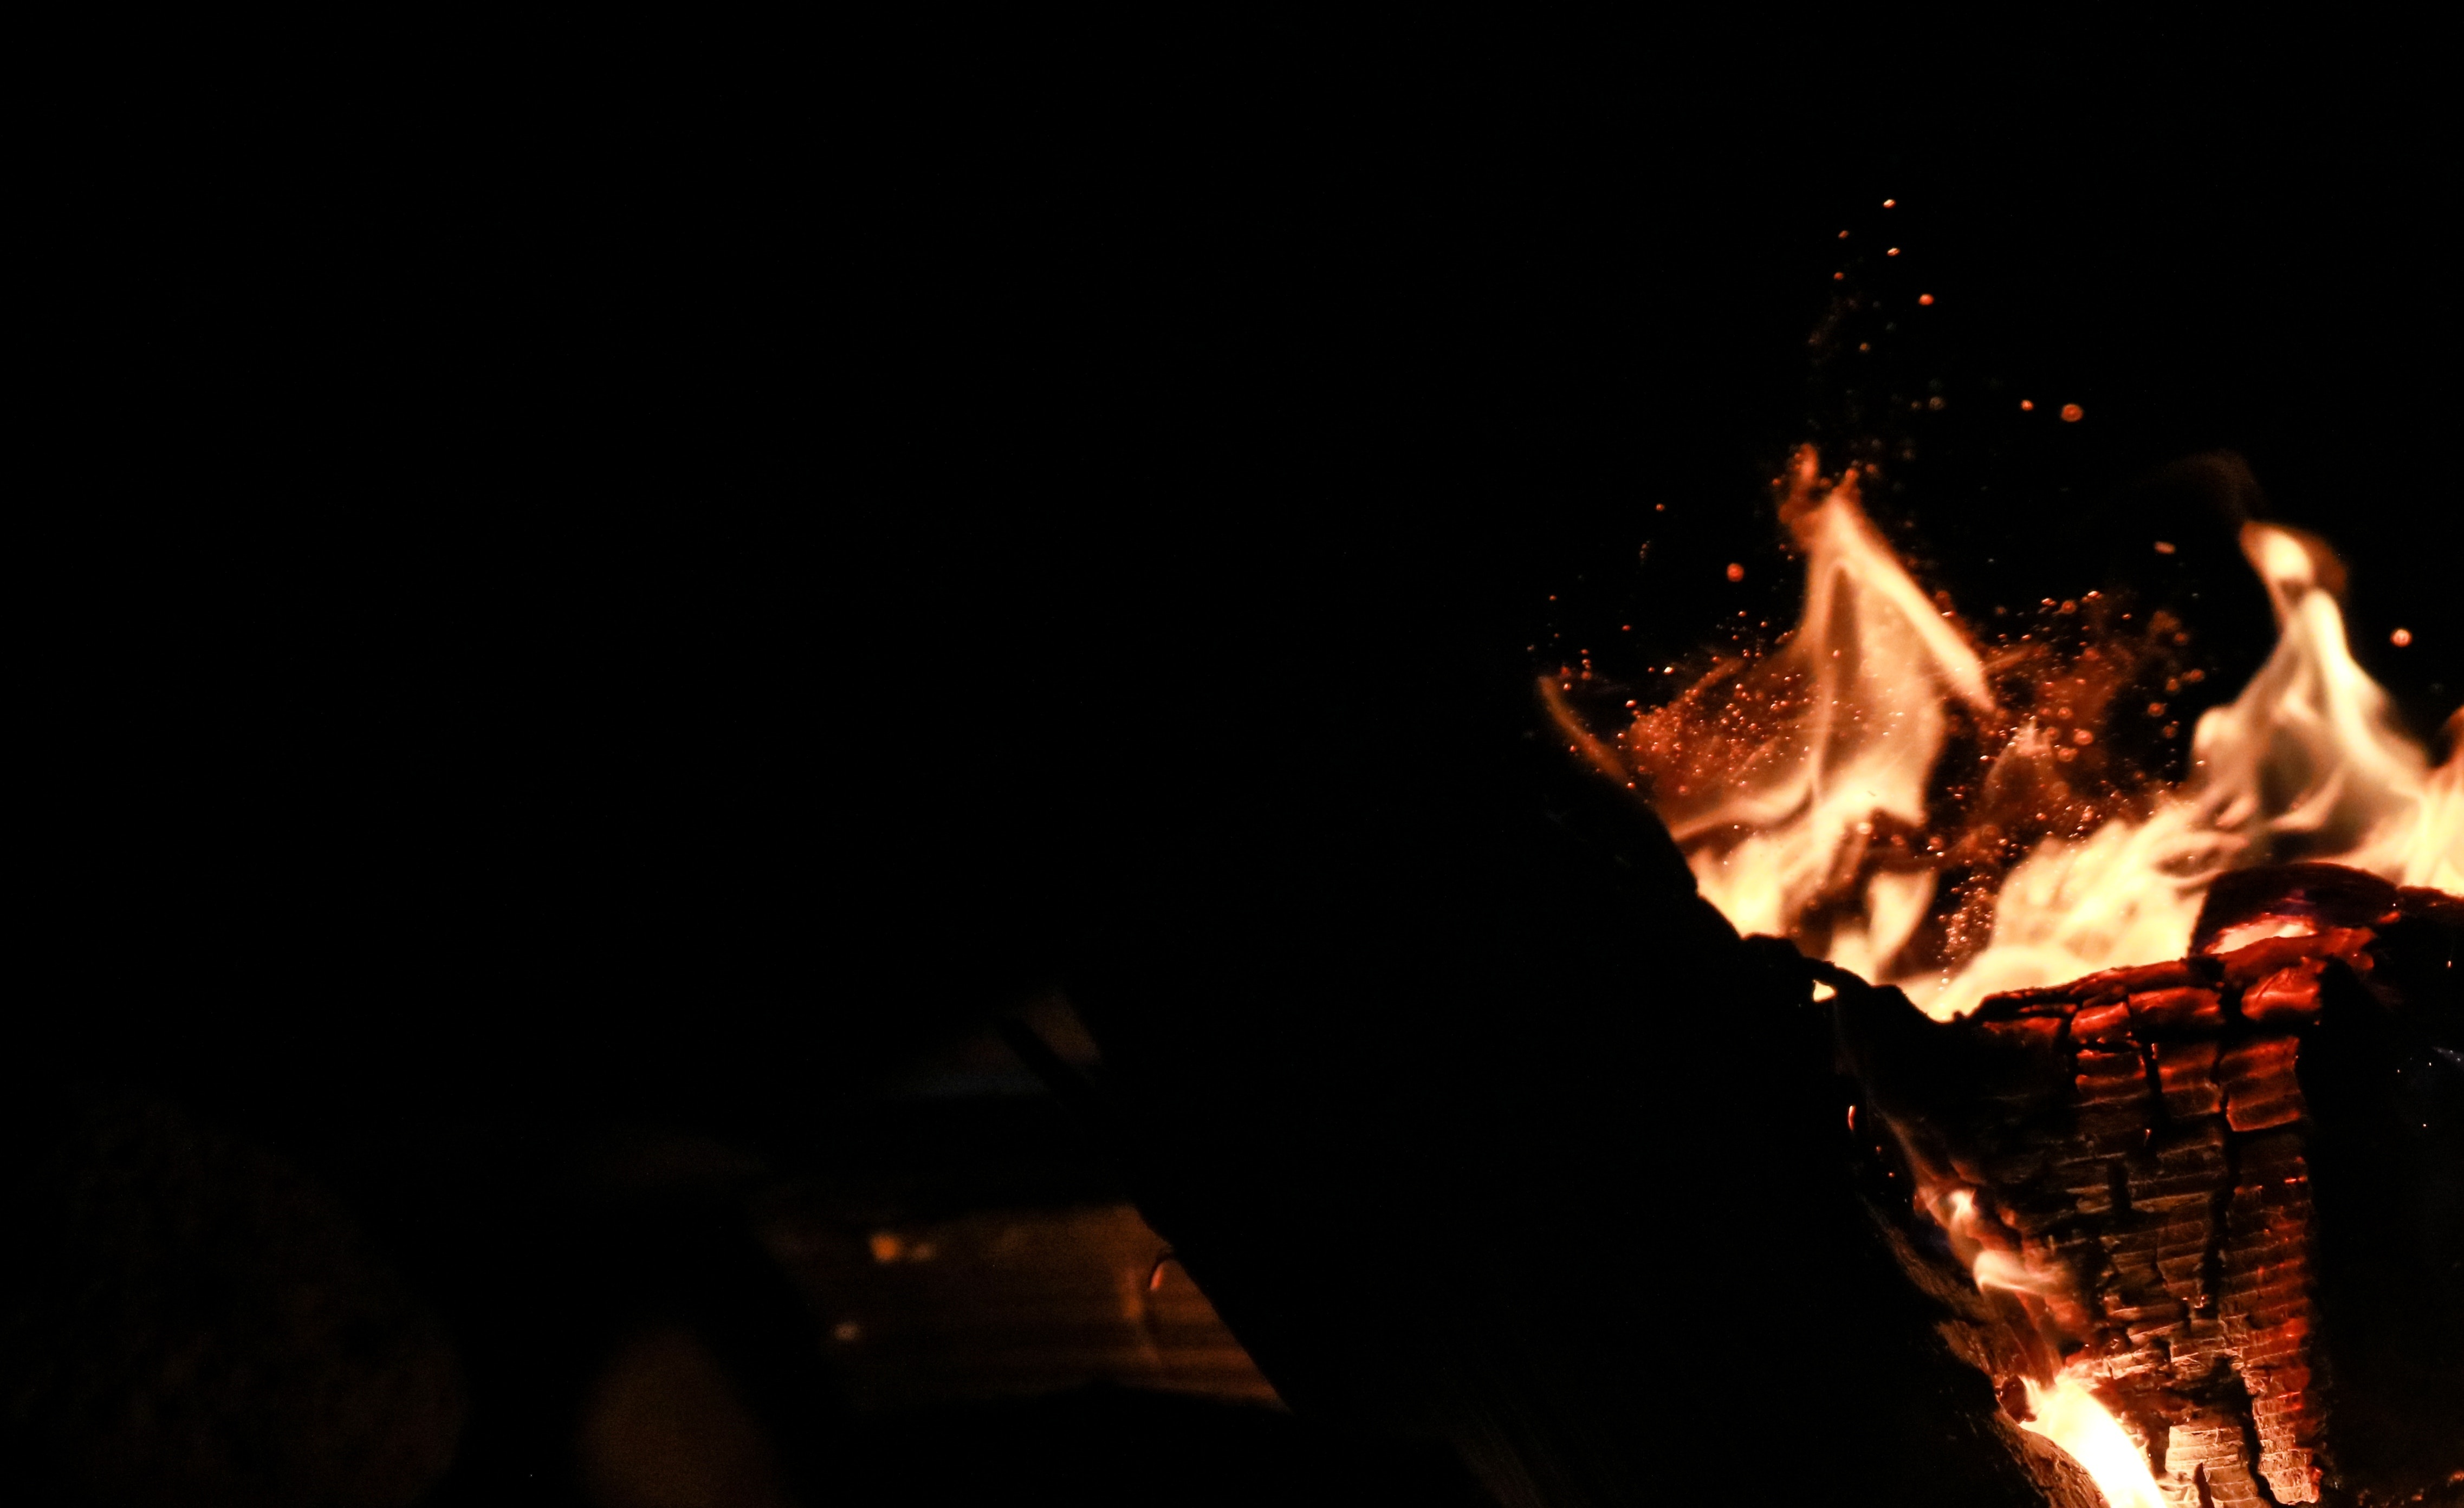fire: (1573, 436, 2464, 1468)
